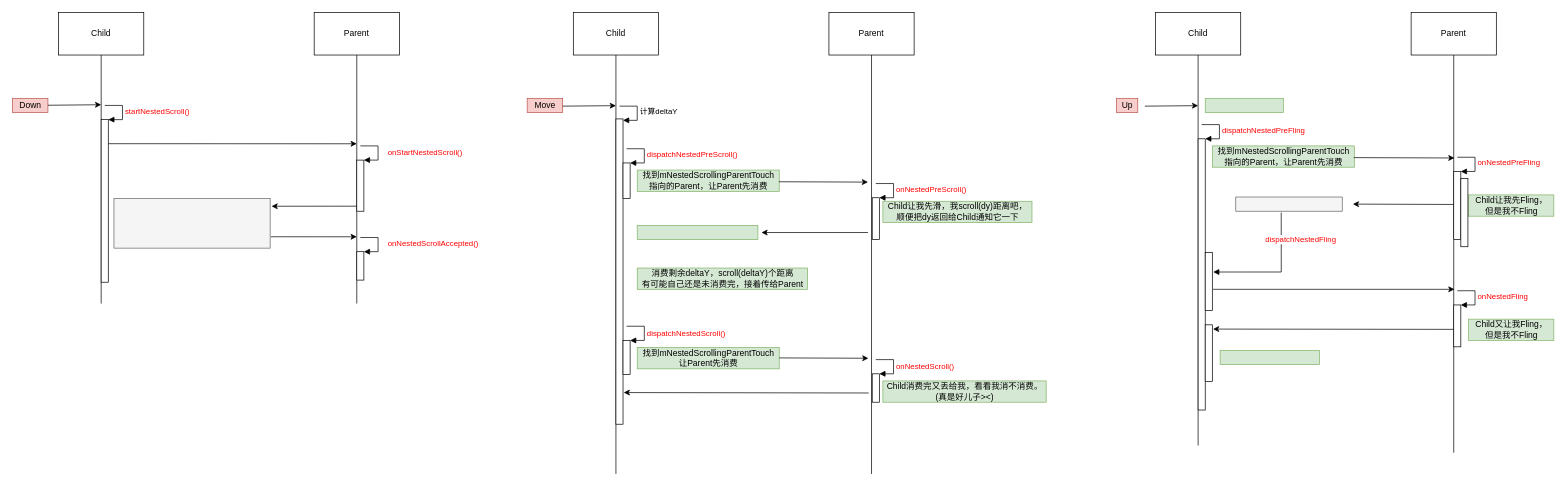
Image size: 1566x487. Some labels were removed from this diagram. Here are the shapes that lost their labels. From the top down, the centre of each, then its label:
At point (1244, 105): "计算脱手时vx、vy".
At point (191, 223): "if(onStartNestedScroll==true) mNestedScrollingParentTouch=Parent".
At point (1288, 203): "如果Parent没有消费Fling".
At point (697, 232): "计算剩余的deltaY=deltaY-dy".
At point (1269, 357): "调用Scroller自己去Fling".
